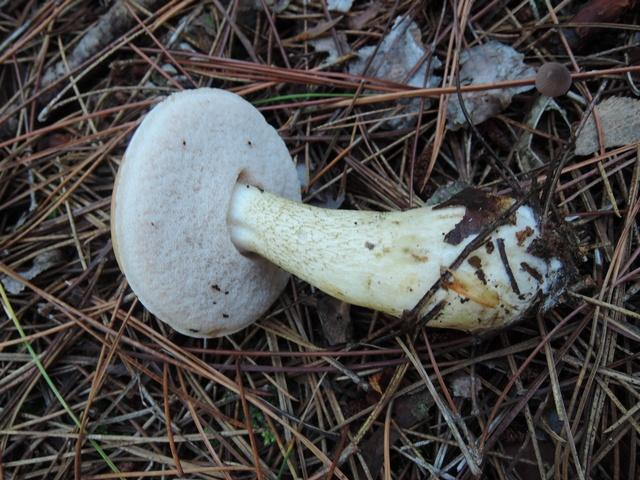Non-edible Mushroom: (109, 85, 575, 340)
